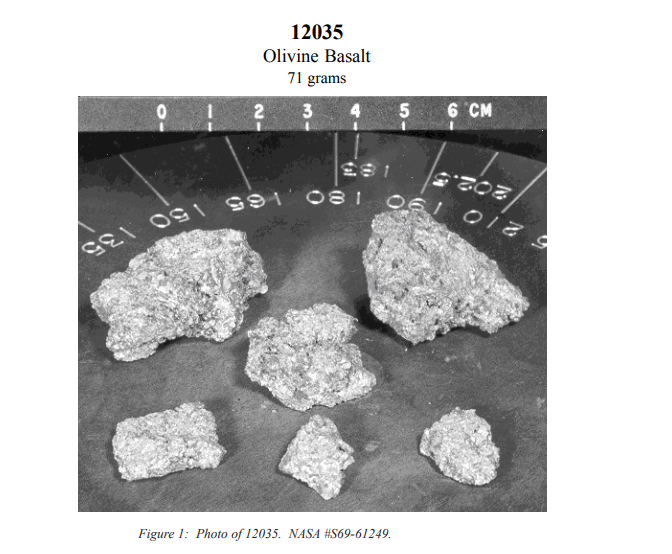Basalt: (349, 205, 534, 350), (81, 191, 276, 323), (224, 334, 409, 418), (409, 408, 527, 496), (263, 406, 366, 502), (103, 403, 239, 474)
